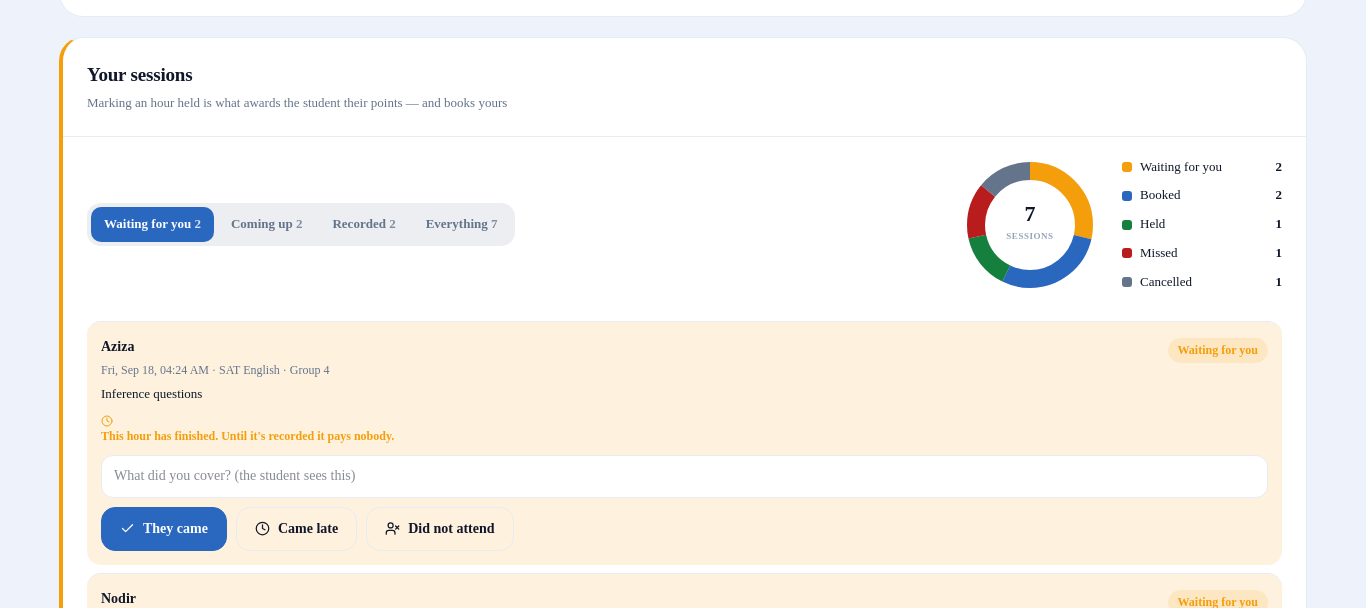
Test: the diary › shows the student's rating and their comment as a verdict on the SESSION
(page scrolled)
Click the button "Everything 7" at (462, 225), box left=413, top=207, right=510, bottom=242
(page scrolled)
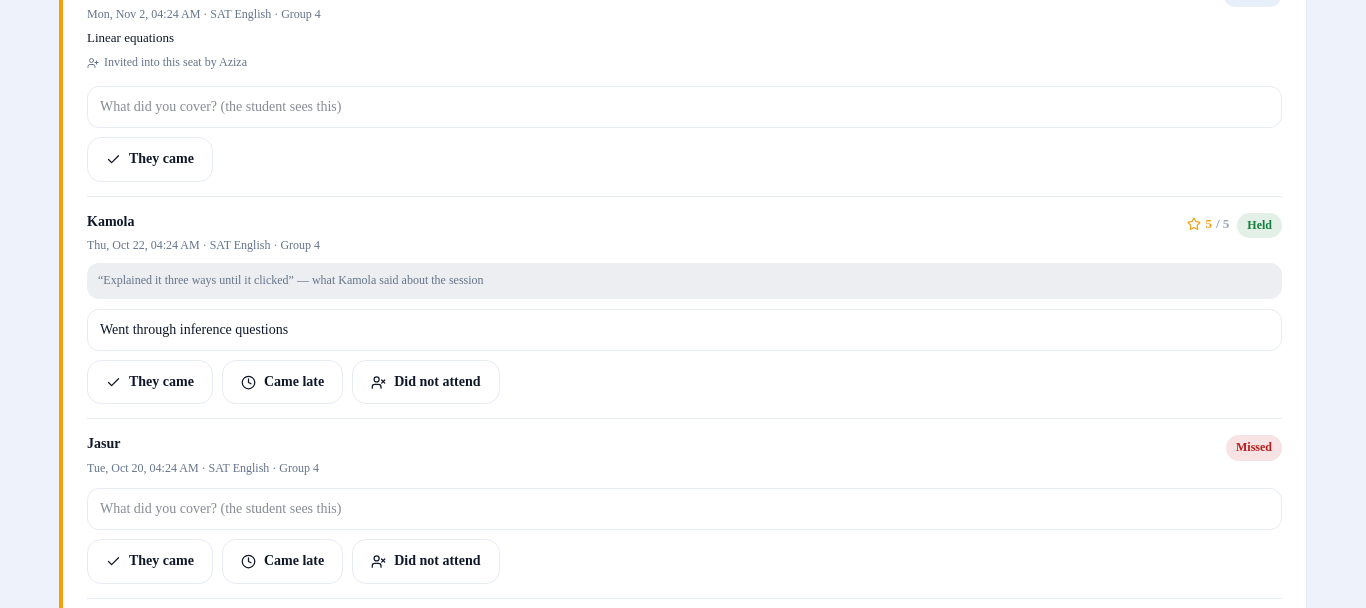
Check: the text "Explained it three ways until it clicked" is shown, box left=103, top=274, right=289, bottom=288
